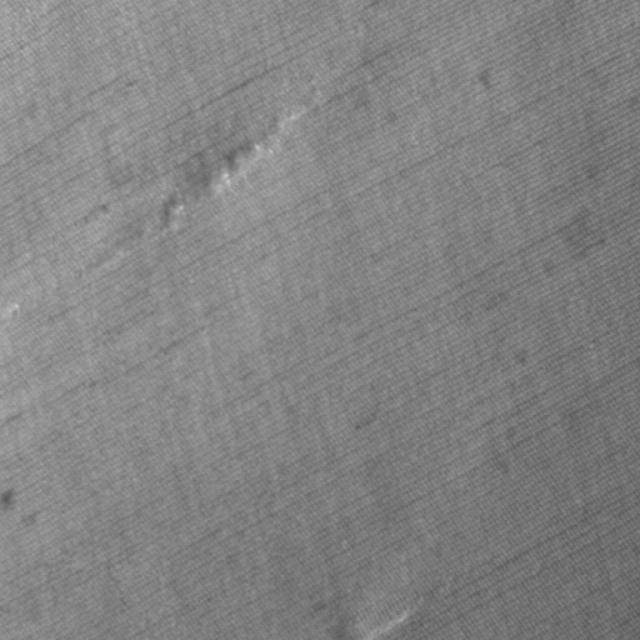thread error: (144, 99, 311, 248)
